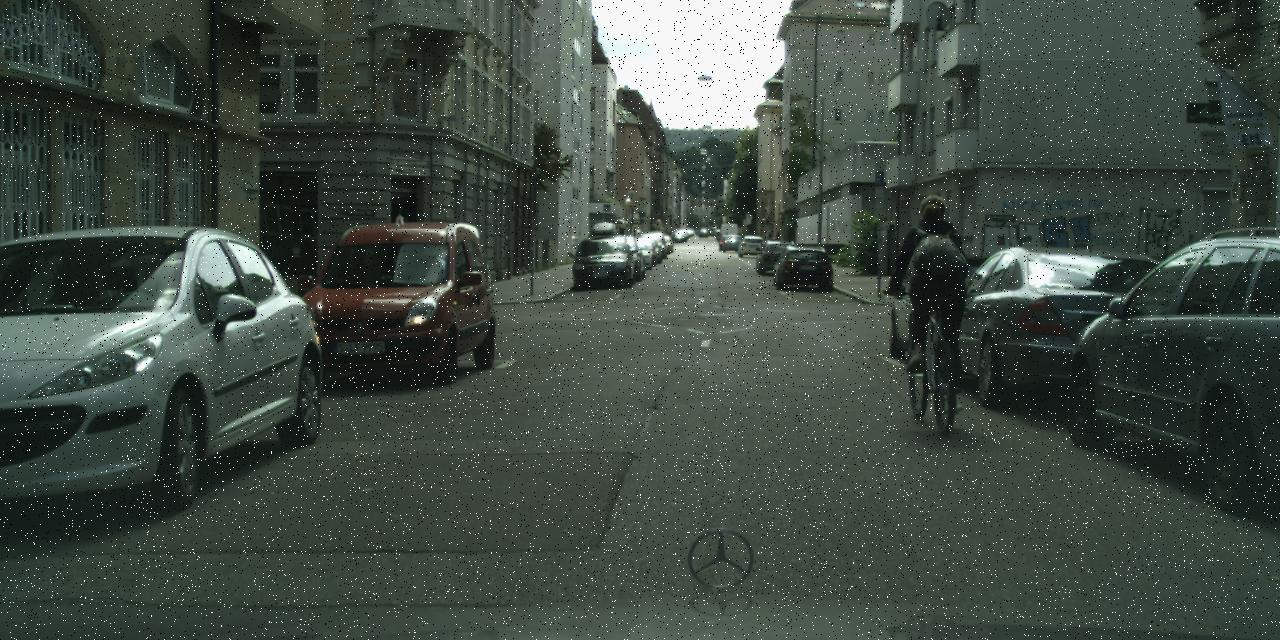ped: (894, 194, 974, 388)
